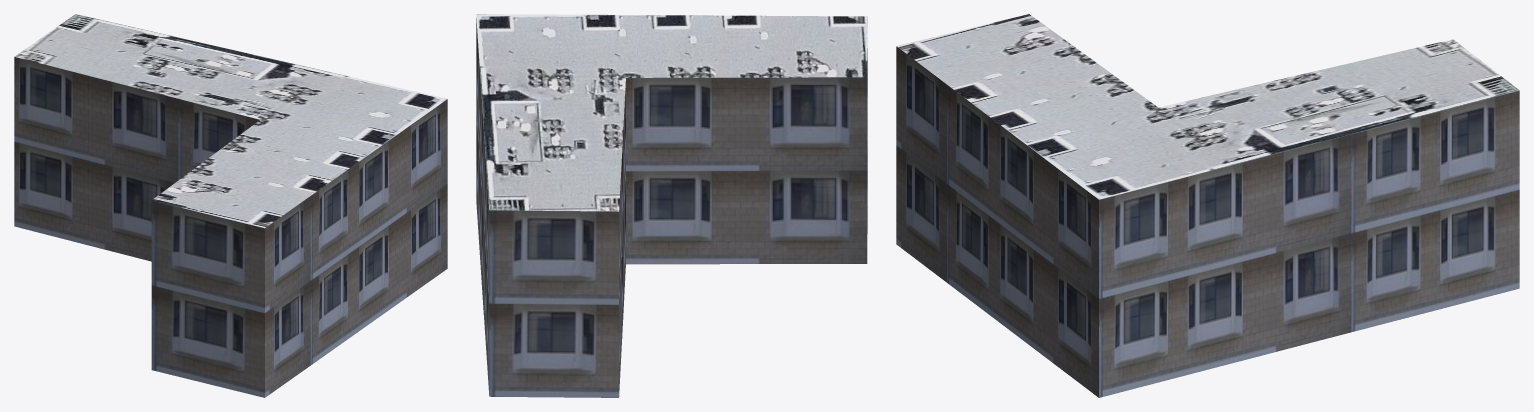
Rendered from ResTex__63.fbx.
The picture shows the model from 3 angles, left to right: view 1: azimuth 30°, elevation 25°; view 2: azimuth 150°, elevation 25°; view 3: azimuth 270°, elevation 25°; orthographic projection. The views are drawn at different scales.
Visible parts, largest first — view 1: CityEngineMaterial_3_m, CityEngineMaterial_m; view 2: CityEngineMaterial_3_m, CityEngineMaterial_m; view 3: CityEngineMaterial_3_m, CityEngineMaterial_m.
Boxes of the visible parts, box(x1,y1,x2,y2) form: CityEngineMaterial_3_m: box(14, 57, 447, 397); CityEngineMaterial_m: box(14, 14, 446, 228); CityEngineMaterial_3_m: box(476, 18, 867, 397); CityEngineMaterial_m: box(476, 14, 867, 211); CityEngineMaterial_3_m: box(896, 46, 1519, 397); CityEngineMaterial_m: box(896, 14, 1519, 199).
Bounding box in the file's own units: 12.06 × 6 × 17.1.
Materials: 2 (2 with a texture image).
